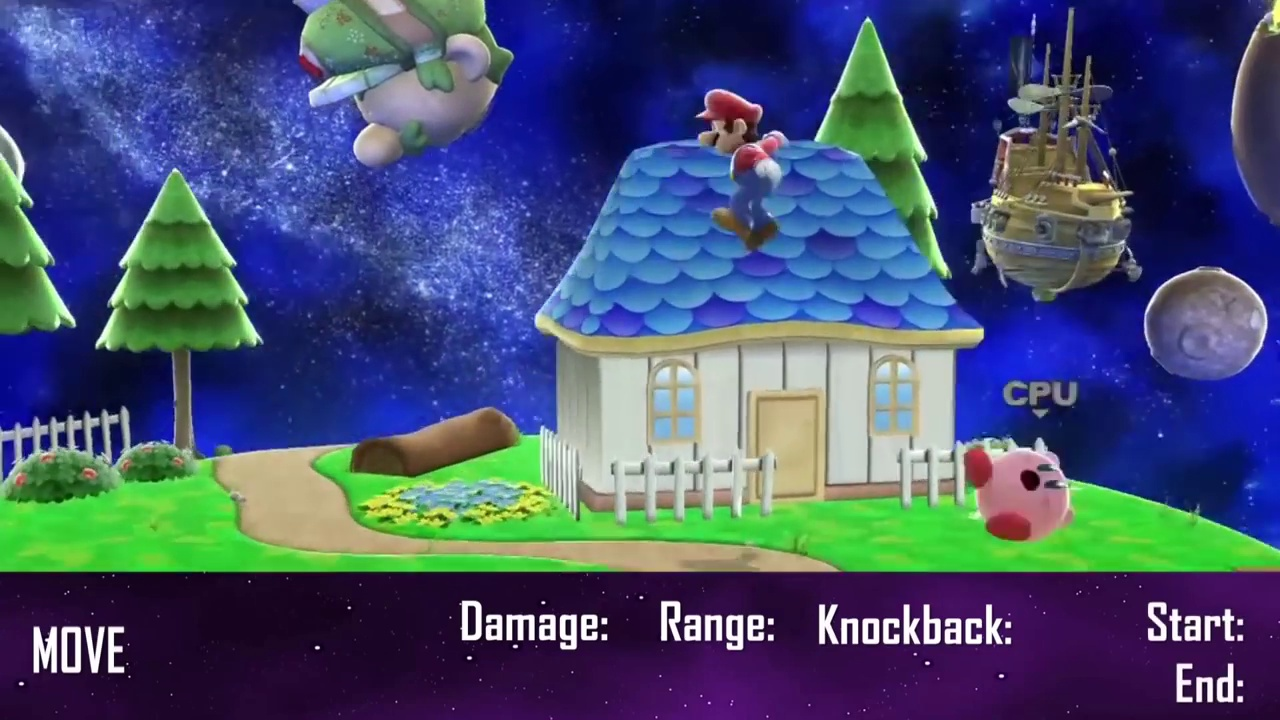Mario: (695, 88, 784, 252)
